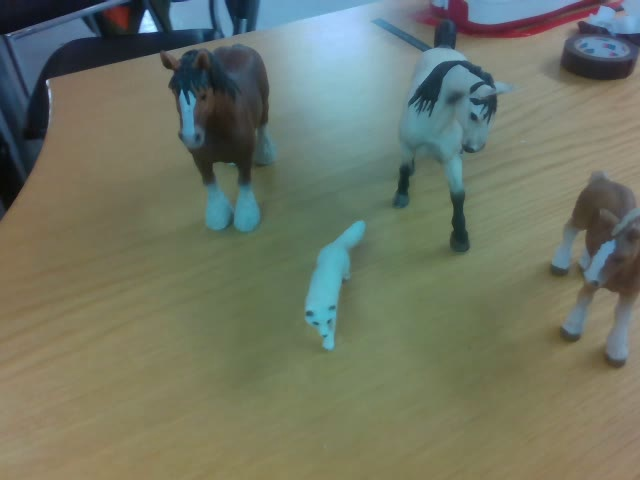toy: (394, 18, 515, 253), (159, 43, 272, 232), (304, 220, 365, 351)
